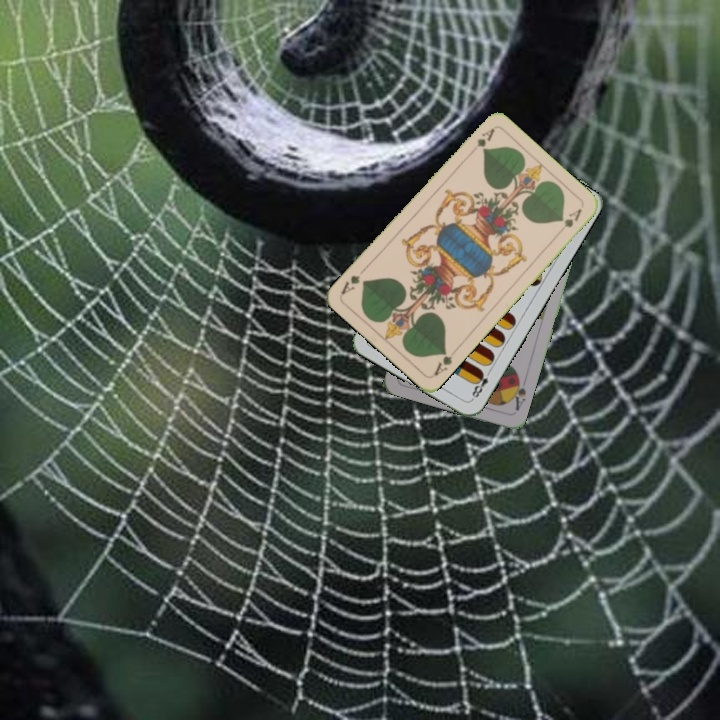E8: (467, 366, 494, 402)
GA: (466, 124, 497, 158), (430, 345, 460, 379)
SA: (506, 373, 529, 413)
